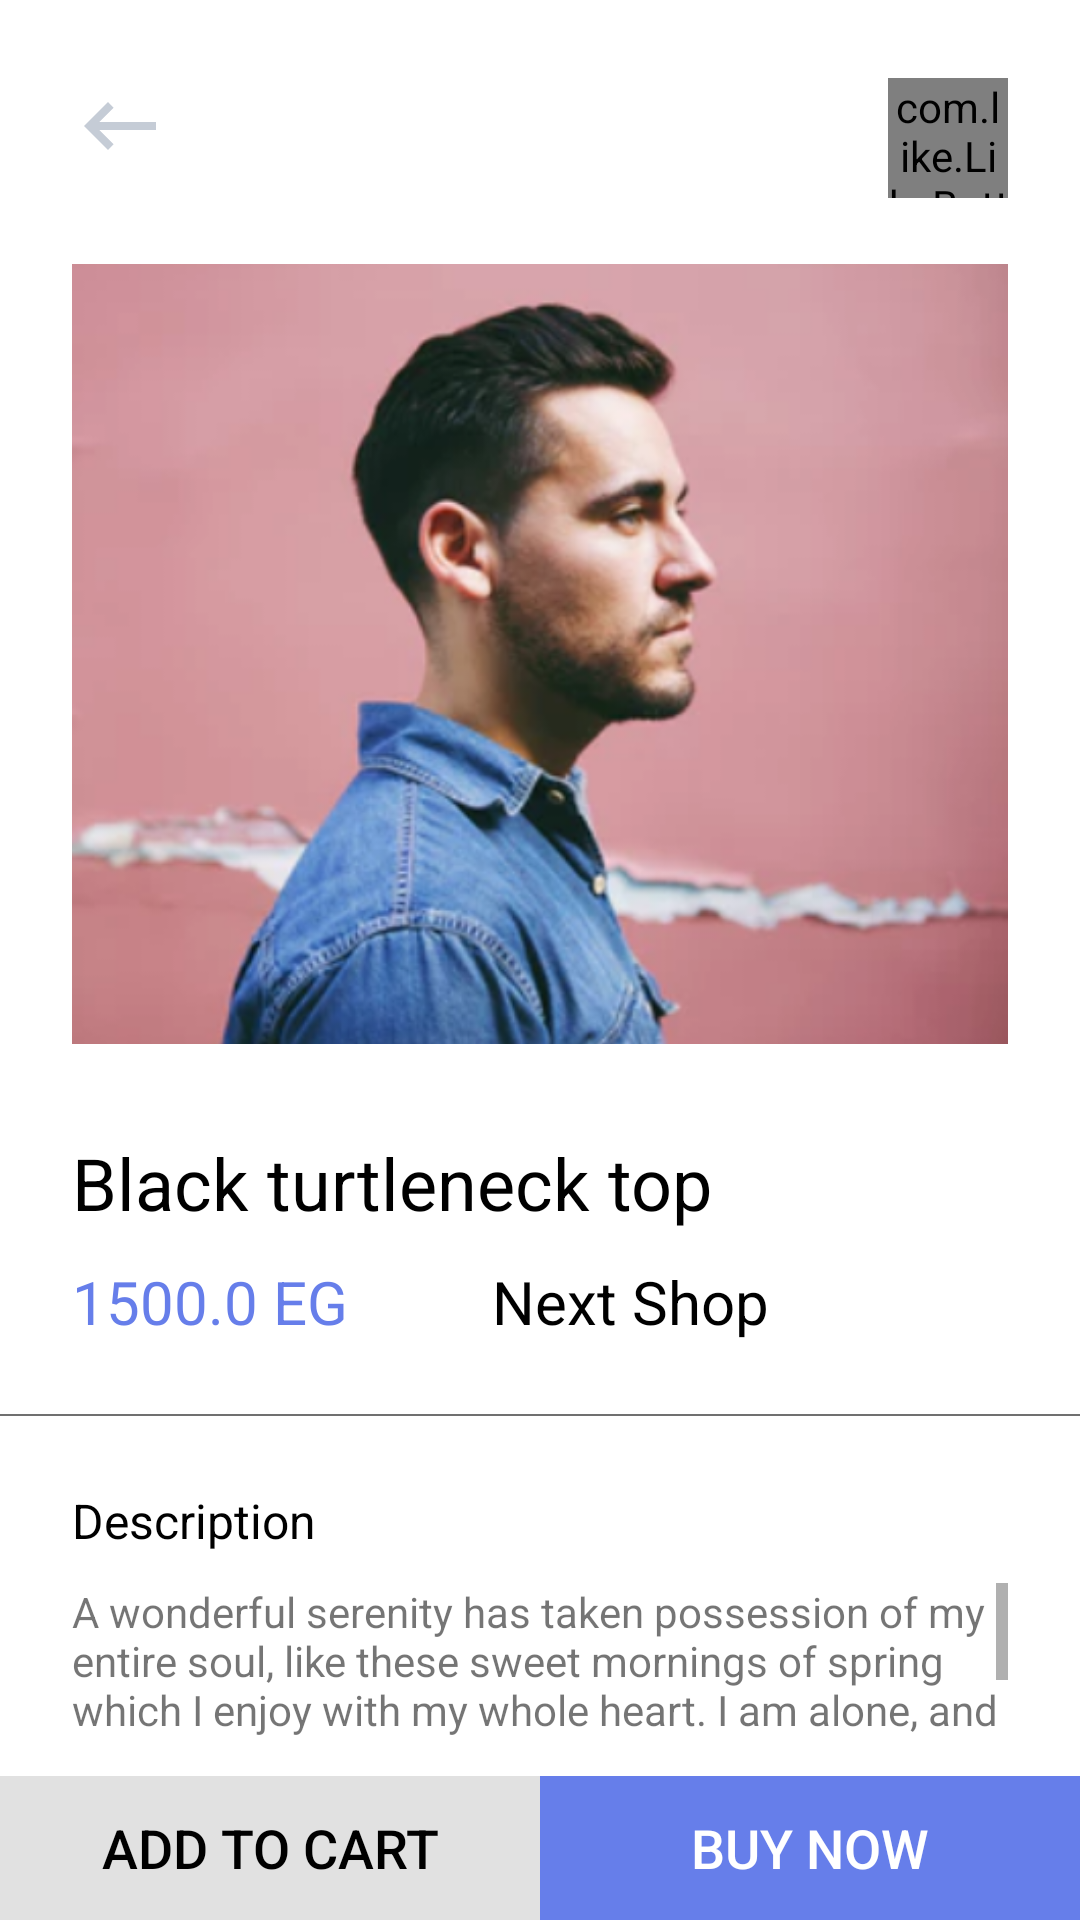

Named icons in this screenshot (1080 × 1920) and their bounding boxes, (x1, y1, x2, y2):
keyboard backspace: (84, 102, 156, 150)
